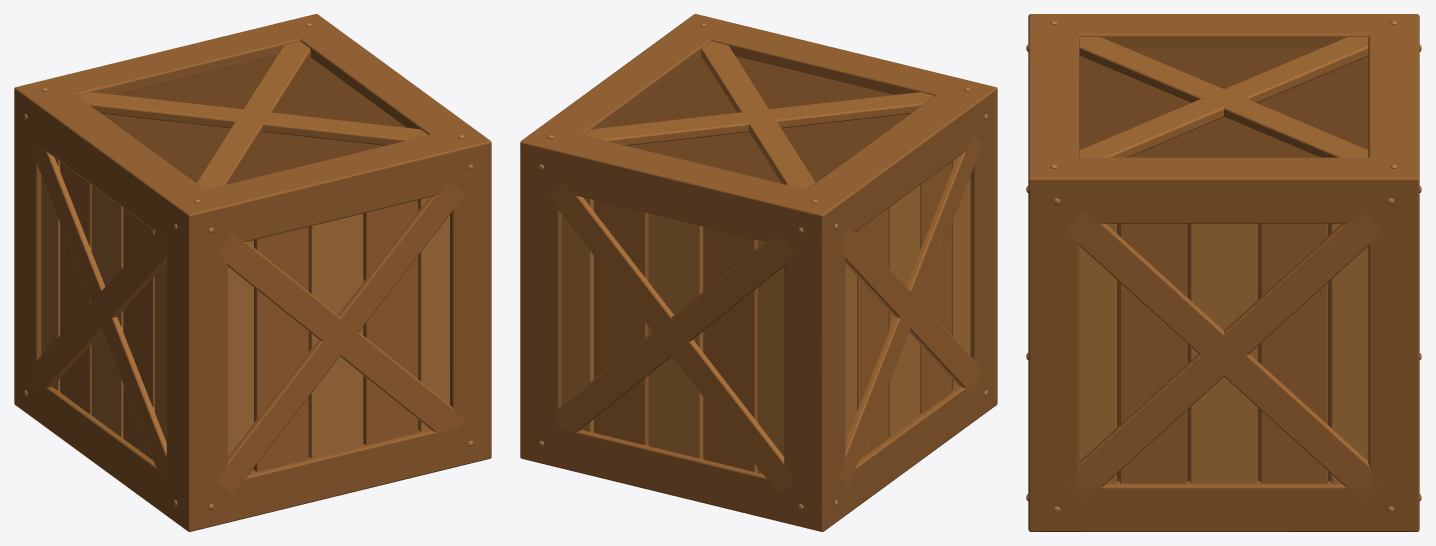
Rendered from crate.glb.
The picture shows the model from 3 angles, left to right: view 1: azimuth 30°, elevation 25°; view 2: azimuth 150°, elevation 25°; view 3: azimuth 270°, elevation 25°; orthographic projection. The views are drawn at different scales.
Parts seen in each view (by area): view 1: Batched_Crate_EdgeWood_140, Batched_Crate_HoneyWood_139, Batched_Crate_LightWood_138, Batched_Crate_ShadowWood_137; view 2: Batched_Crate_EdgeWood_140, Batched_Crate_HoneyWood_139, Batched_Crate_LightWood_138, Batched_Crate_ShadowWood_137; view 3: Batched_Crate_EdgeWood_140, Batched_Crate_HoneyWood_139, Batched_Crate_LightWood_138, Batched_Crate_ShadowWood_137.
Boxes of the visible parts, x1,y1,x2,y2 form: Batched_Crate_EdgeWood_140: [14, 14, 491, 531]; Batched_Crate_HoneyWood_139: [29, 41, 464, 493]; Batched_Crate_LightWood_138: [41, 158, 449, 473]; Batched_Crate_ShadowWood_137: [102, 56, 405, 183]; Batched_Crate_EdgeWood_140: [520, 14, 997, 531]; Batched_Crate_HoneyWood_139: [548, 41, 982, 493]; Batched_Crate_LightWood_138: [562, 158, 970, 473]; Batched_Crate_ShadowWood_137: [606, 56, 909, 183]; Batched_Crate_EdgeWood_140: [1028, 14, 1419, 531]; Batched_Crate_HoneyWood_139: [1064, 37, 1383, 499]; Batched_Crate_LightWood_138: [1079, 223, 1368, 483]; Batched_Crate_ShadowWood_137: [1079, 46, 1368, 481].
Bounding box in the file's own units: 1.31 × 1.31 × 1.31.
